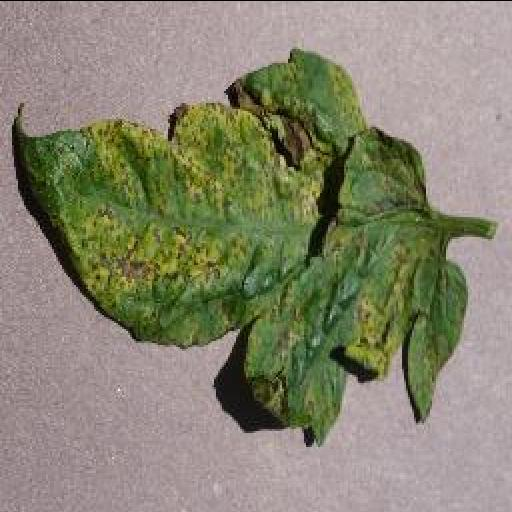disease_tomato: (10, 45, 468, 449)
